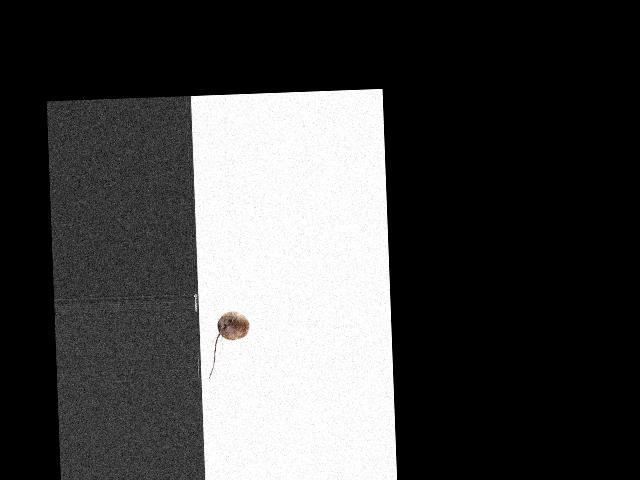beet: (206, 311, 250, 378)
